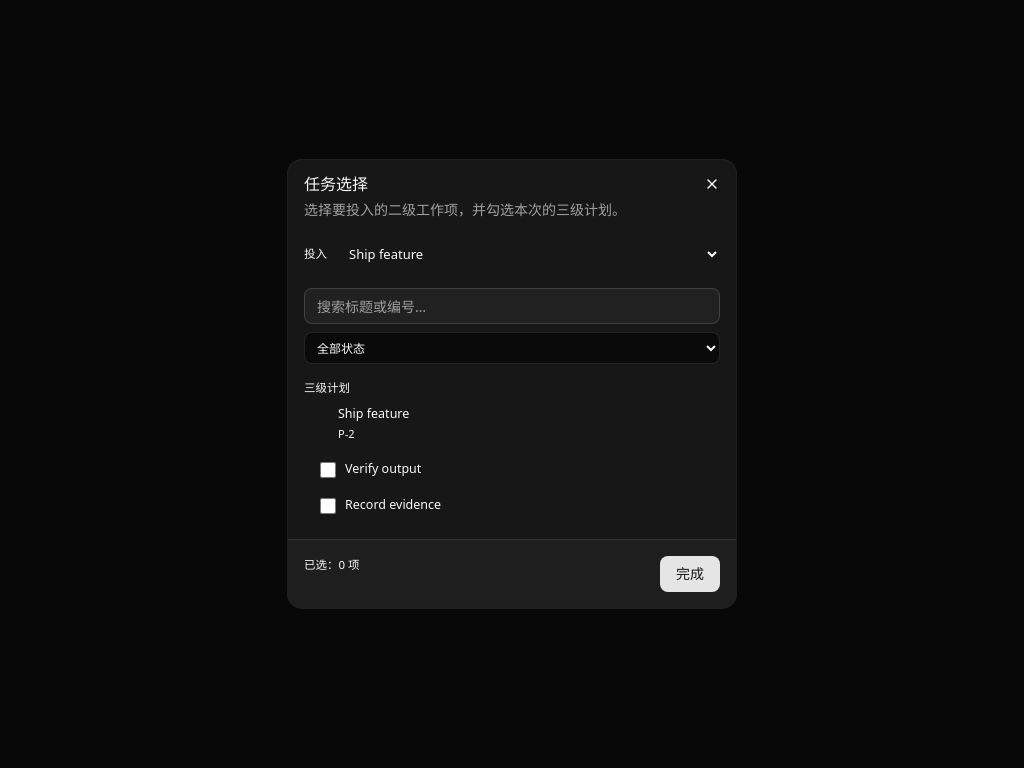
Test case: TaskPickerModal 筛选（外派单验收 2：走 filterWorkItemTree，不自造过滤） › 「清除筛选」一键复位（与任务页同款按钮）
The image size is (1024, 768).
Type "Verify" into the field named "搜索工作项" at (512, 306), box x1=304 y1=288 x2=720 y2=324
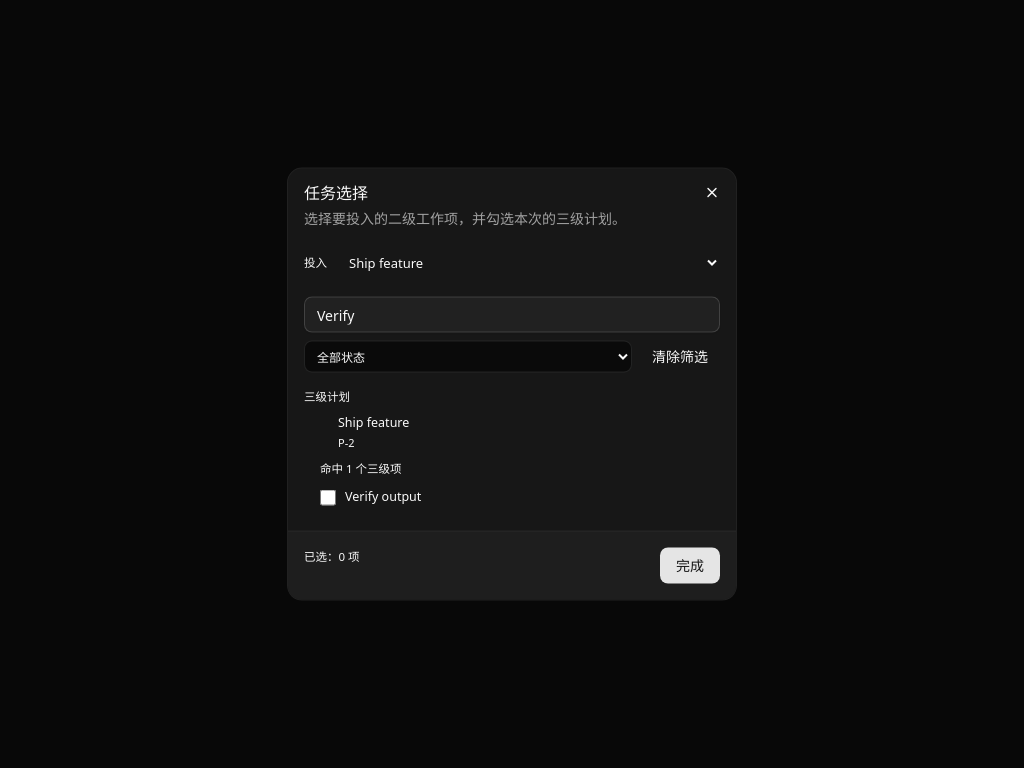
Click the button "清除筛选" at (680, 356), box x1=640 y1=340 x2=720 y2=372
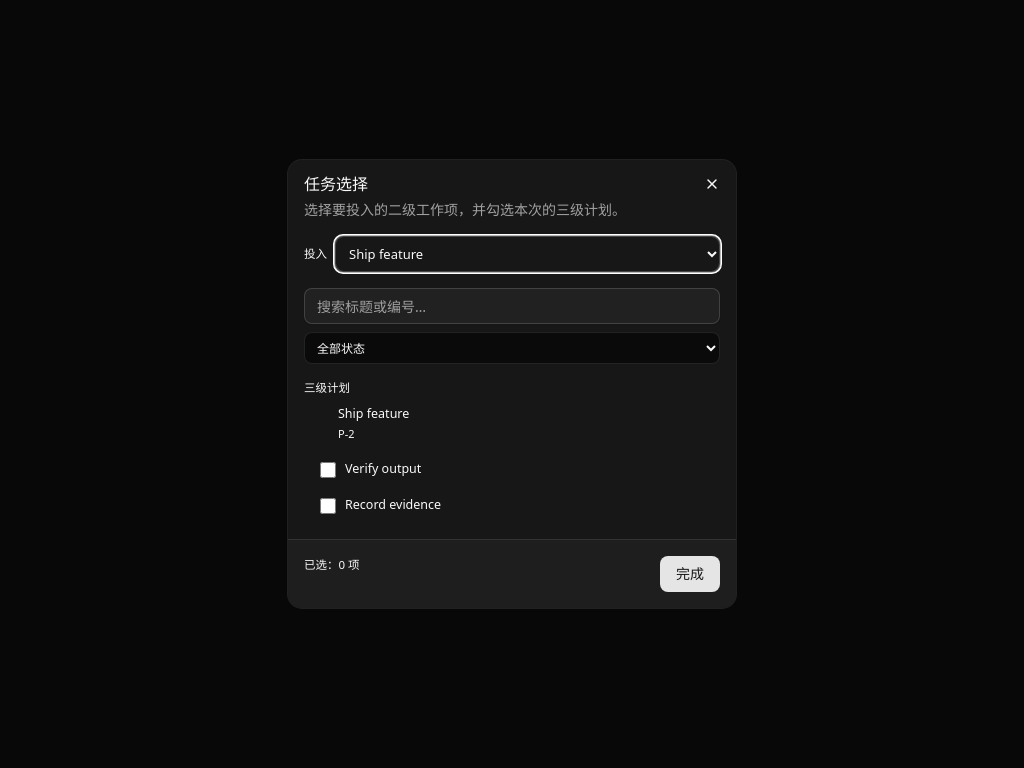
Expected: the dropdown named "按状态筛选" shows "全部状态", x1=304 y1=332 x2=720 y2=364
Expected: the field named "搜索工作项" is empty, x1=304 y1=288 x2=720 y2=324
Expected: the checkbox labelled "Record evidence" is shown, x1=320 y1=498 x2=336 y2=514
